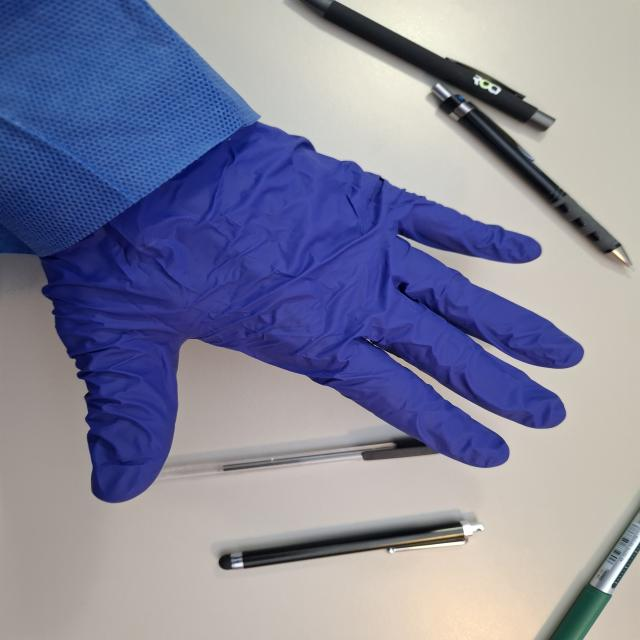glove_on: (33, 117, 588, 507)
